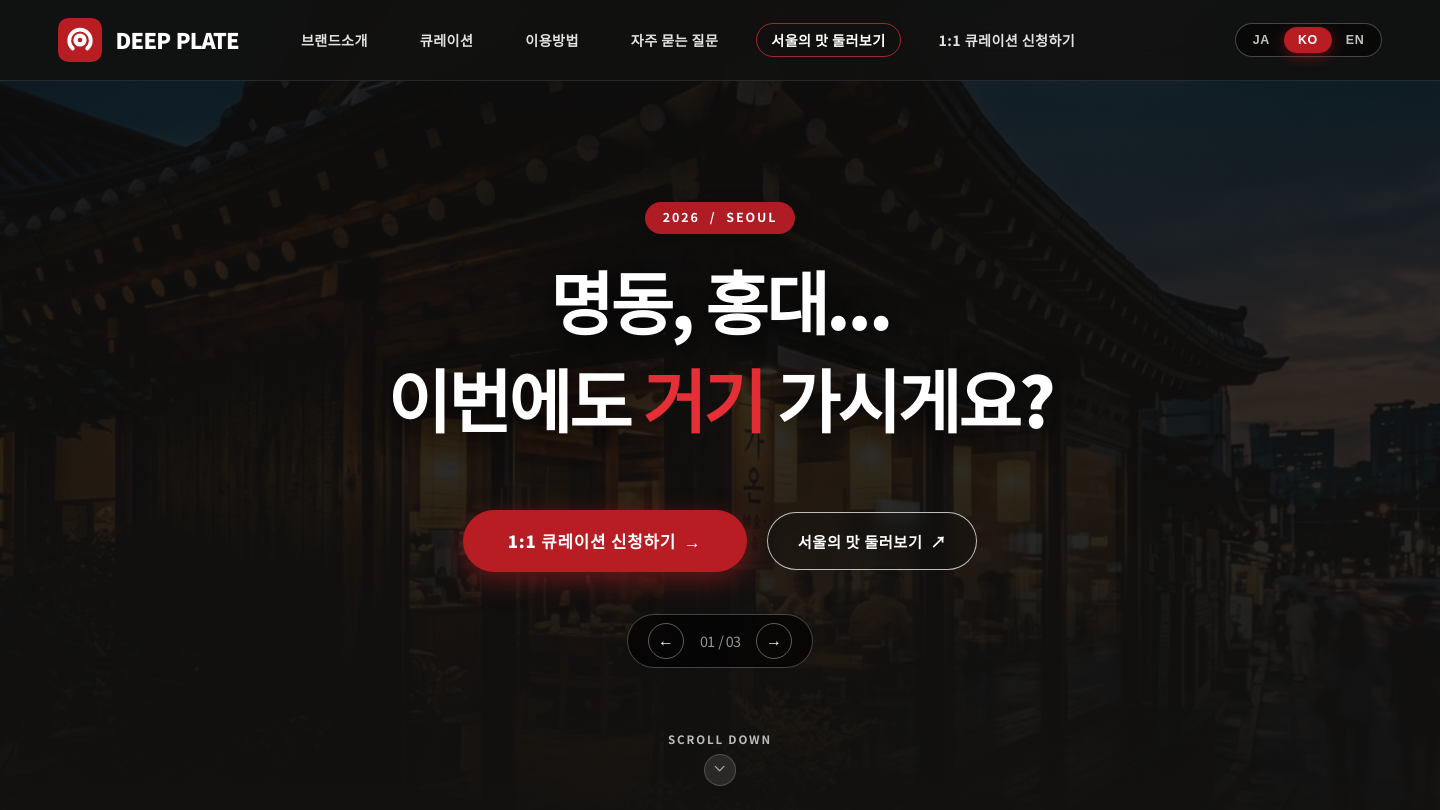
Test: Deep Plate 주요 사용자 흐름 › Tally 신청 완료 이벤트를 확인한 뒤 결제 화면으로 이동한다
Click the button "1:1 큐레이션 신청하기" at (1007, 40), box [925,24,1089,56]
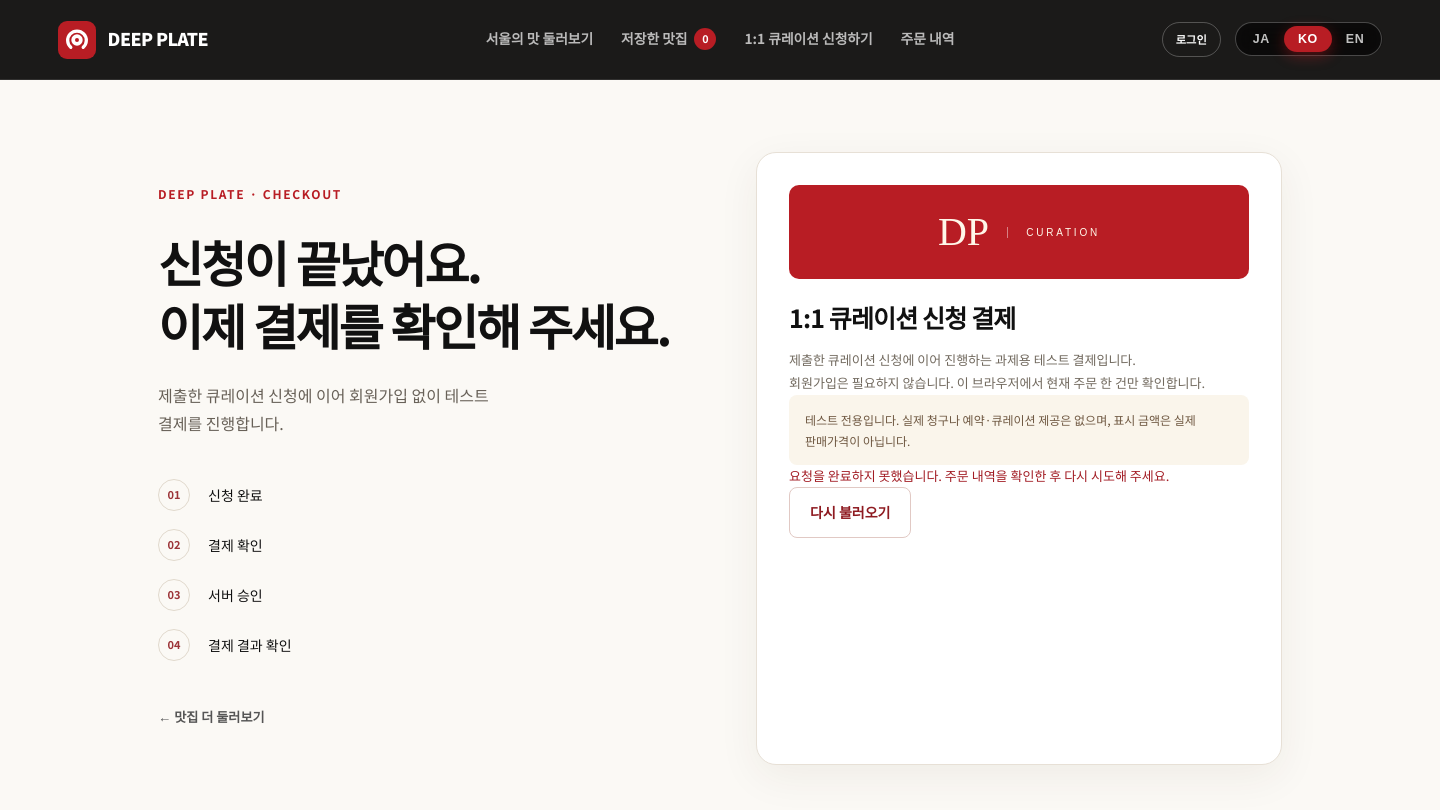
Result: the text "DEEP PLATE · CHECKOUT" is shown at [158,185,342,202]
Result: the heading "신청이 끝났어요. 이제 결제를 확인해 주세요." is shown at [158,230,684,357]
